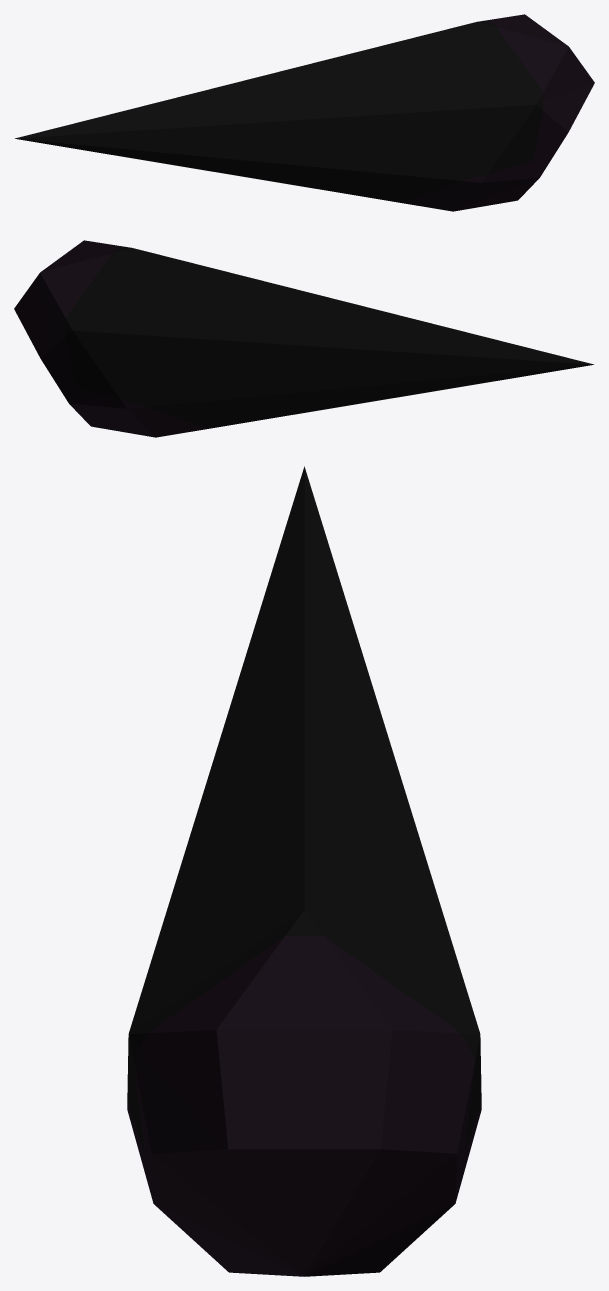
3 renders of one model, top to bottom at view 1: azimuth 30°, elevation 25°; view 2: azimuth 150°, elevation 25°; view 3: azimuth 270°, elevation 25°, orthographic. The views are drawn at different scales.
Parts seen in each view (by area): view 1: mesh_9ECDFBB0D7AC0B41; view 2: mesh_9ECDFBB0D7AC0B41; view 3: mesh_9ECDFBB0D7AC0B41.
Part boxes in pixels (box(x1,y1,x2,y2)): mesh_9ECDFBB0D7AC0B41: box(15, 14, 594, 211); mesh_9ECDFBB0D7AC0B41: box(14, 240, 593, 437); mesh_9ECDFBB0D7AC0B41: box(127, 466, 481, 1276).
Size of the model in its own units: 1.03 by 0.2996 by 0.2826.
